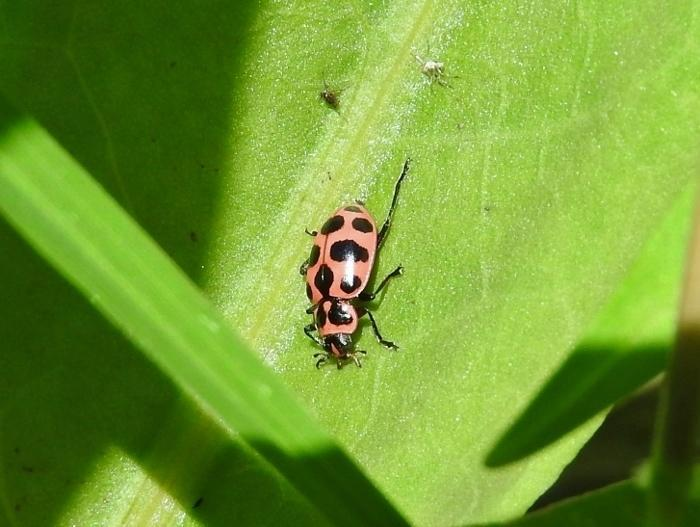ladybug: (301, 157, 415, 372)
